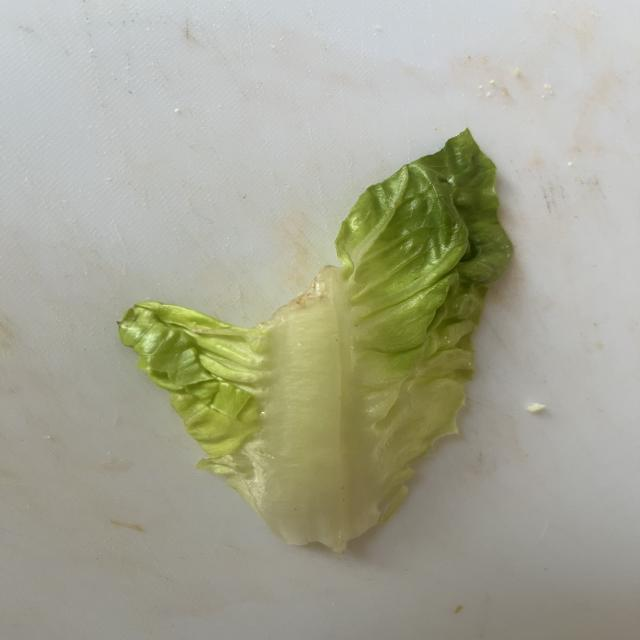lettuce: (118, 130, 511, 552)
